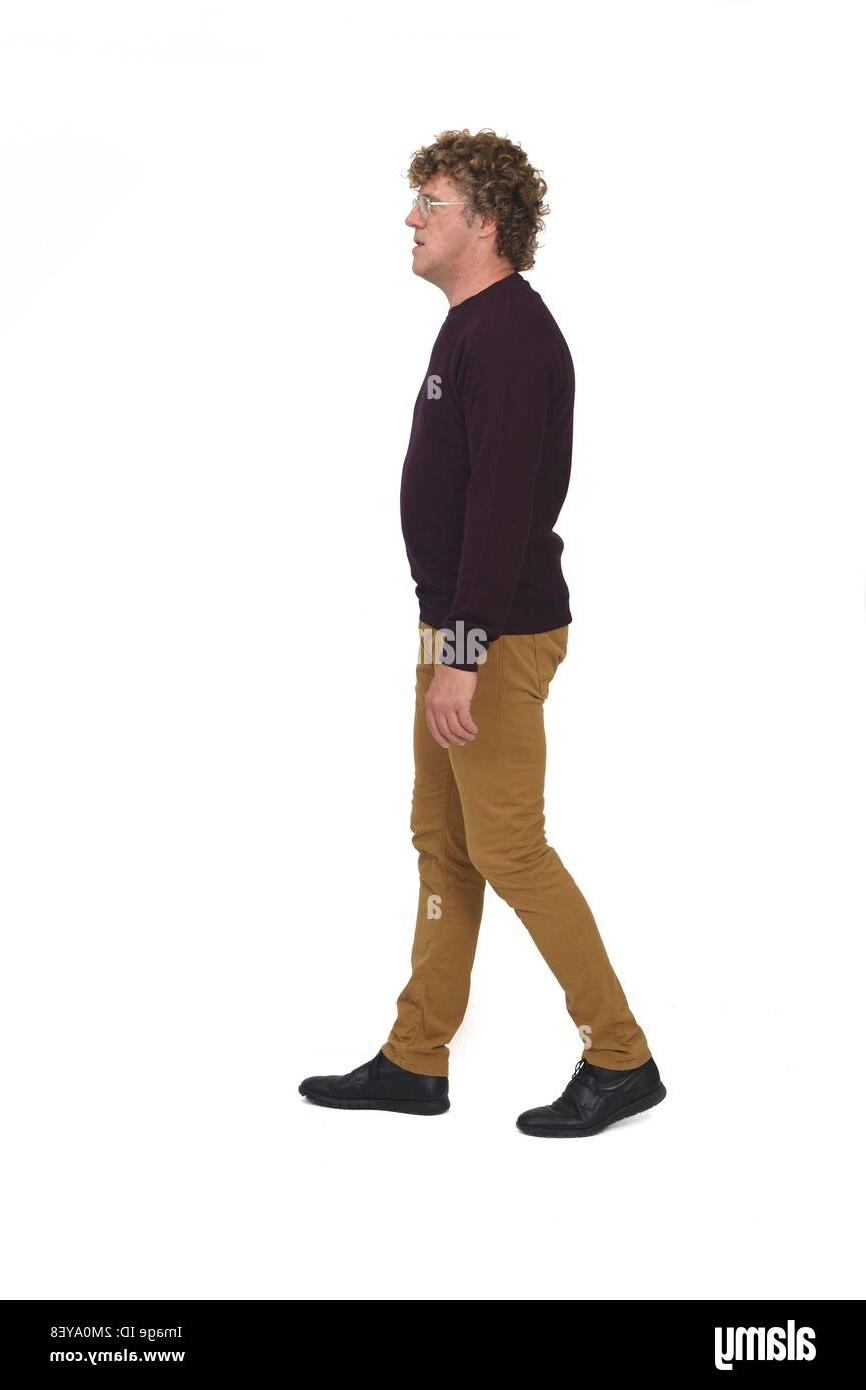sweater: (400, 269, 582, 670)
trousers: (371, 625, 660, 1078)
